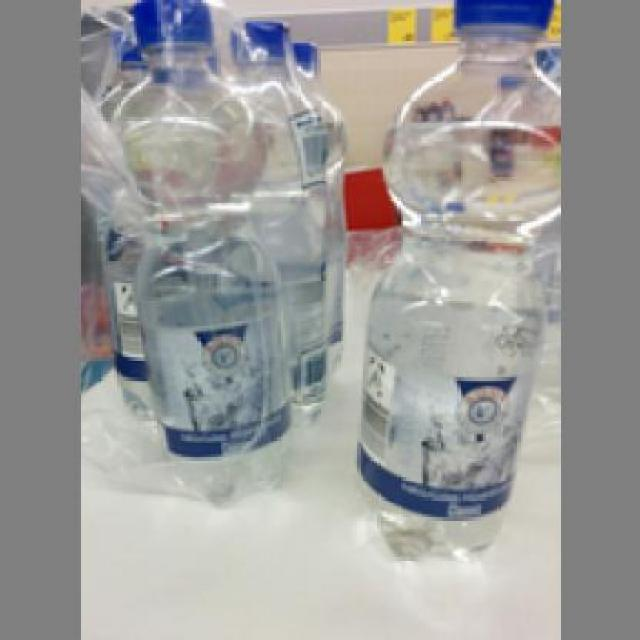Water: (357, 0, 554, 557), (113, 0, 290, 506)
